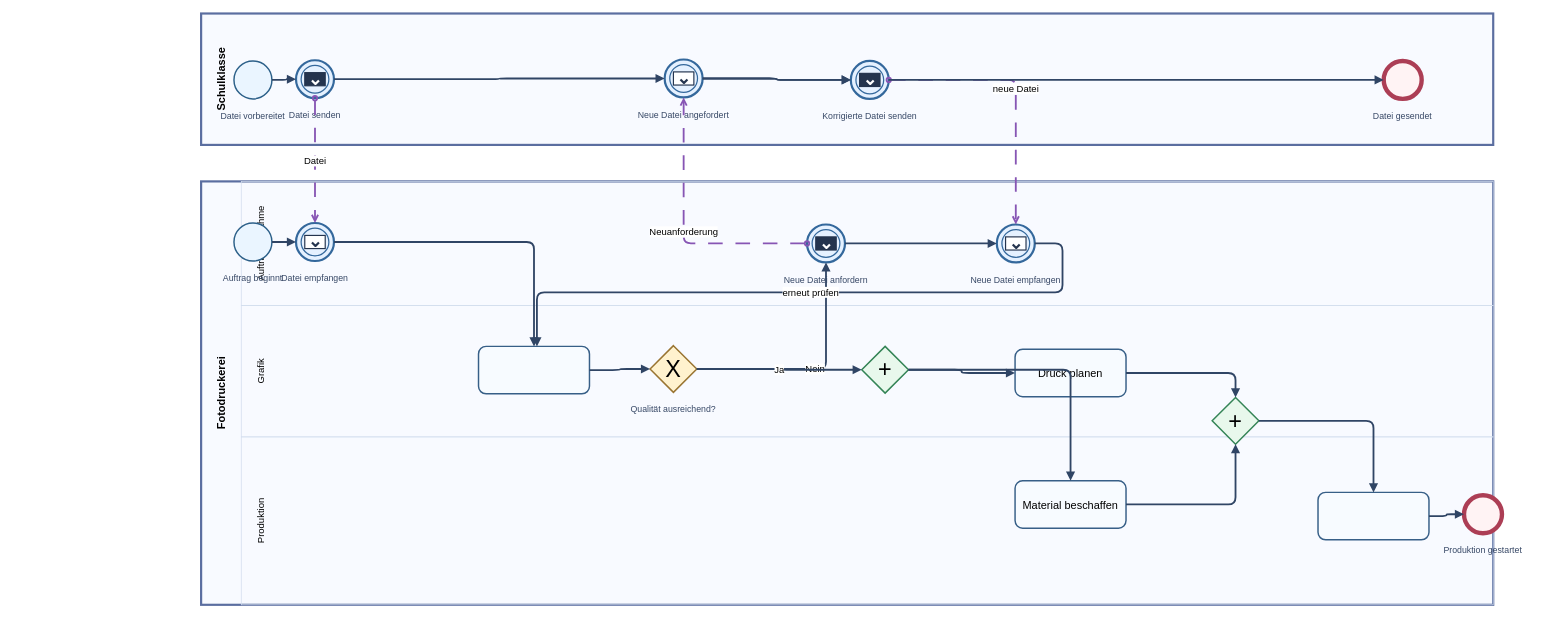
This 1559x618 diagram has some shape labels left out. Each missing label, with the centre of its shape:
Datei prüfen: (x=533, y=369)
Produktion beginnen: (x=1373, y=515)
